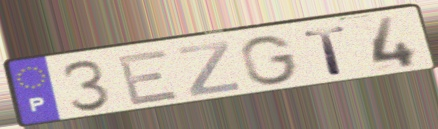3: (61, 58, 113, 114)
4: (367, 14, 424, 70)
E: (114, 47, 183, 107)
G: (238, 34, 302, 88)
T: (301, 24, 350, 78)
Z: (175, 39, 242, 98)
